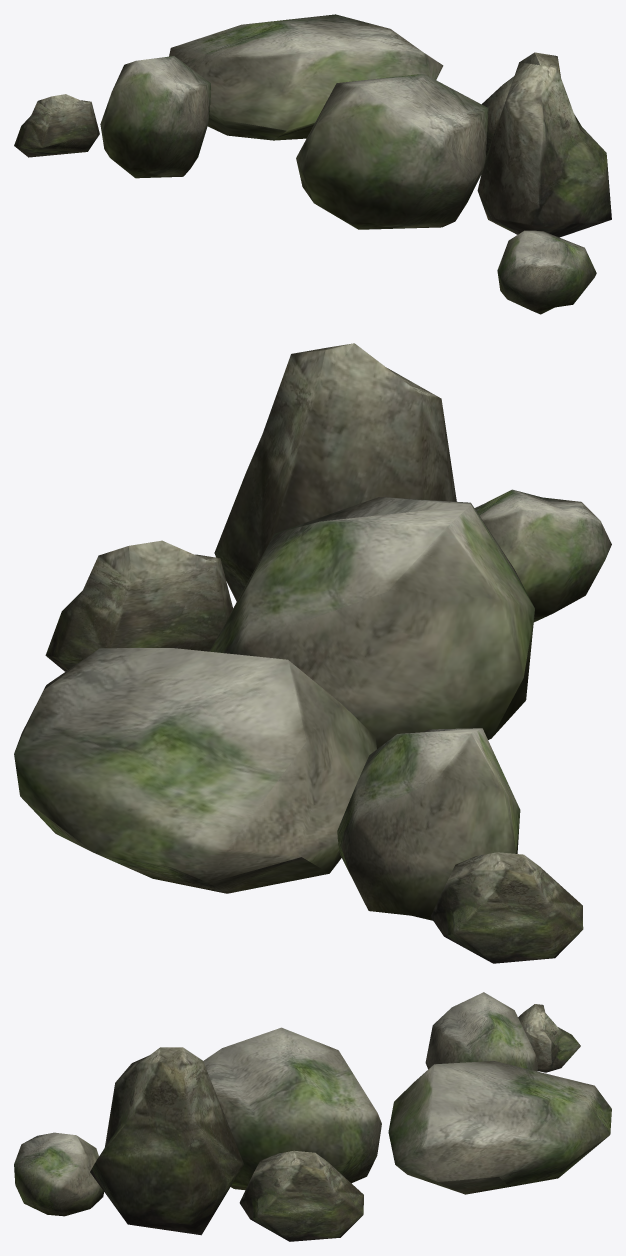
The model's file is zz_dont_use_rocks_LT_group_3F.fbx.
3 renders of one model, top to bottom at view 1: azimuth 30°, elevation 25°; view 2: azimuth 150°, elevation 25°; view 3: azimuth 270°, elevation 25°, orthographic. The views are drawn at different scales.
Parts seen in each view (by area): view 1: rock_5, rock_3, rock_1, rock_6, rock_2, rock_7, rock_4; view 2: rock_3, rock_5, rock_1, rock_6, rock_4, rock_7, rock_2; view 3: rock_3, rock_1, rock_5, rock_4, rock_2, rock_6, rock_7.
Boxes of the visible parts, x1,y1,x2,y2 form: rock_5: [296, 73, 488, 229]; rock_3: [169, 14, 443, 140]; rock_1: [477, 52, 611, 237]; rock_6: [100, 56, 210, 178]; rock_2: [497, 230, 596, 314]; rock_7: [14, 94, 99, 157]; rock_4: [481, 76, 514, 157]; rock_3: [14, 648, 376, 893]; rock_5: [209, 497, 534, 748]; rock_1: [214, 343, 456, 601]; rock_6: [337, 728, 520, 920]; rock_4: [45, 540, 232, 671]; rock_7: [430, 852, 583, 963]; rock_2: [474, 489, 611, 622]; rock_3: [388, 1061, 611, 1194]; rock_1: [90, 1047, 243, 1235]; rock_5: [203, 1027, 381, 1190]; rock_4: [239, 1150, 363, 1241]; rock_2: [14, 1132, 103, 1216]; rock_6: [425, 992, 537, 1071]; rock_7: [518, 1004, 580, 1072].
Size of the model in its own units: 1137 by 485 by 1407.
1 material, 1 textured.
